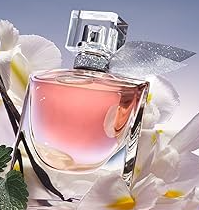lancome_la_vie_est_belle: (8, 6, 196, 198)
